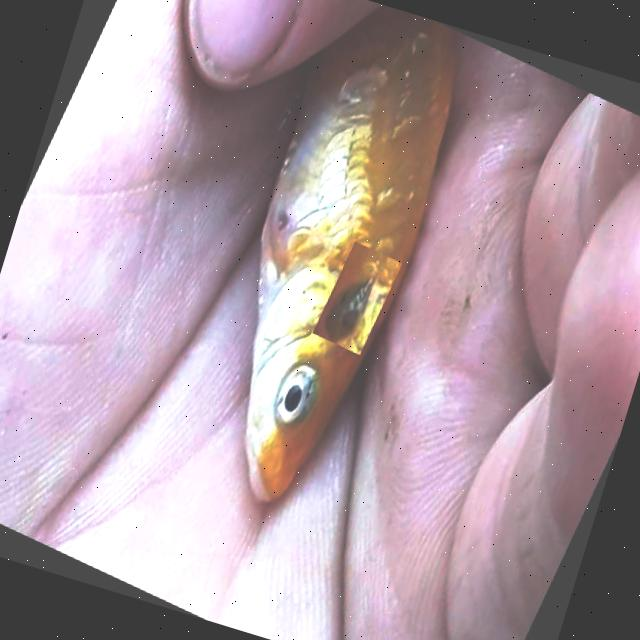Aeromonas Septicemia: (241, 5, 458, 509)
